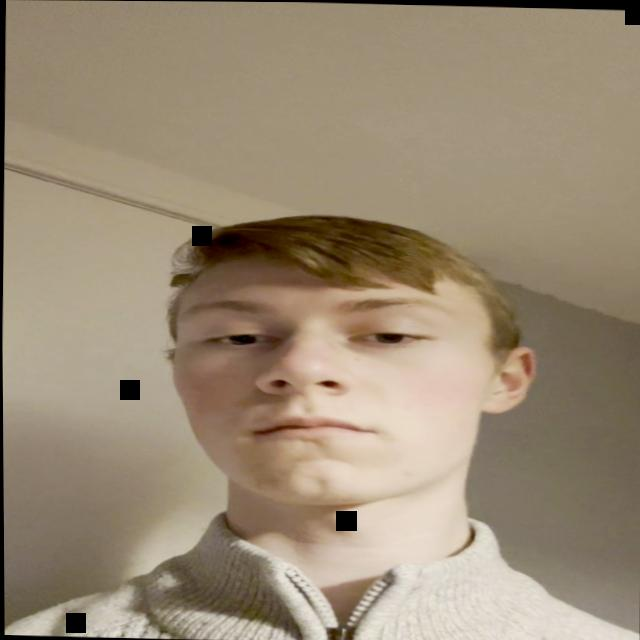NO-Mask: (157, 206, 523, 543)
